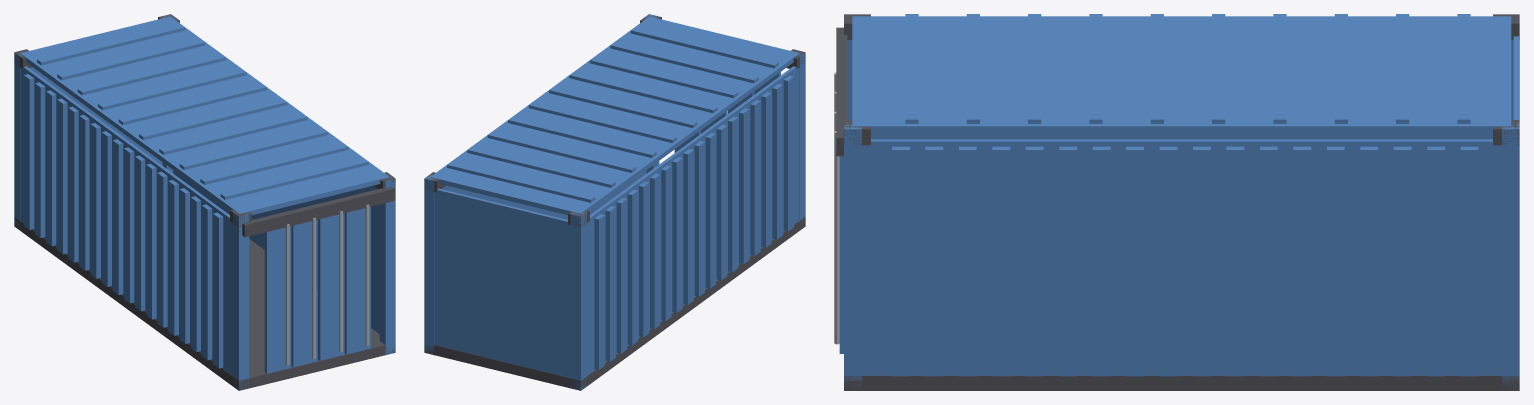
Rendered from bt-d2-container-blue.glb.
3 renders of one model, left to right at view 1: azimuth 30°, elevation 25°; view 2: azimuth 150°, elevation 25°; view 3: azimuth 270°, elevation 25°, orthographic. The views are drawn at different scales.
Parts seen in each view (by area): view 1: bt-d2-container-blue_roof, bt-d2-container-blue_side-1, bt-d2-container-blue_floor, bt-d2-container-blue_door0, bt-d2-container-blue_door3, bt-d2-container-blue_door1, bt-d2-container-blue_door2, bt-d2-container-blue_post-11, bt-d2-container-blue_post11, bt-d2-container-blue_header, bt-d2-container-blue_side1, bt-d2-container-blue_rib-1_16 (+33 smaller); view 2: bt-d2-container-blue_roof, bt-d2-container-blue_front, bt-d2-container-blue_side-1, bt-d2-container-blue_floor, bt-d2-container-blue_post-1-1, bt-d2-container-blue_post1-1, bt-d2-container-blue_rib-1_3, bt-d2-container-blue_rib-1_11, bt-d2-container-blue_rib-1_2, bt-d2-container-blue_rib-1_5, bt-d2-container-blue_rib-1_6, bt-d2-container-blue_rib-1_12 (+24 smaller); view 3: bt-d2-container-blue_side1, bt-d2-container-blue_roof, bt-d2-container-blue_floor, bt-d2-container-blue_post1-1, bt-d2-container-blue_post11, bt-d2-container-blue_rib1_2, bt-d2-container-blue_rib1_5, bt-d2-container-blue_rib1_7, bt-d2-container-blue_rib1_11, bt-d2-container-blue_rib1_13, bt-d2-container-blue_rib1_14, bt-d2-container-blue_rib1_16 (+25 smaller).
Boxes of the visible parts, x1,y1,x2,y2 form: bt-d2-container-blue_roof: (20,16,389,215); bt-d2-container-blue_side-1: (20,66,232,375); bt-d2-container-blue_floor: (14,216,395,390); bt-d2-container-blue_door0: (264,226,291,373); bt-d2-container-blue_door3: (344,206,370,354); bt-d2-container-blue_door1: (291,219,317,367); bt-d2-container-blue_door2: (318,213,344,360); bt-d2-container-blue_post-11: (233,212,249,390); bt-d2-container-blue_post11: (379,177,395,354); bt-d2-container-blue_header: (242,187,395,237); bt-d2-container-blue_side1: (173,170,379,333); bt-d2-container-blue_rib-1_16: (201,204,212,360); bt-d2-container-blue_roof: (430,16,799,215); bt-d2-container-blue_front: (434,188,570,377); bt-d2-container-blue_side-1: (587,66,799,375); bt-d2-container-blue_floor: (424,216,805,390); bt-d2-container-blue_post-1-1: (570,212,586,390); bt-d2-container-blue_post1-1: (424,174,434,354); bt-d2-container-blue_rib-1_3: (627,190,638,345); bt-d2-container-blue_rib-1_11: (716,124,727,280); bt-d2-container-blue_rib-1_2: (616,198,626,353); bt-d2-container-blue_rib-1_5: (650,173,660,329); bt-d2-container-blue_rib-1_6: (661,165,671,321); bt-d2-container-blue_rib-1_12: (728,116,738,272); bt-d2-container-blue_side1: (862,139,1501,375); bt-d2-container-blue_roof: (852,16,1511,133); bt-d2-container-blue_floor: (844,375,1519,390); bt-d2-container-blue_post1-1: (1502,122,1519,389); bt-d2-container-blue_post11: (844,122,861,388); bt-d2-container-blue_rib1_2: (1393,146,1411,376); bt-d2-container-blue_rib1_5: (1293,146,1311,376); bt-d2-container-blue_rib1_7: (1226,146,1244,376); bt-d2-container-blue_rib1_11: (1092,146,1110,376); bt-d2-container-blue_rib1_13: (1025,146,1043,376); bt-d2-container-blue_rib1_14: (992,146,1010,376); bt-d2-container-blue_rib1_16: (925,146,943,376).
Bounding box in the file's own units: 2.57 × 2.64 × 6.15.
